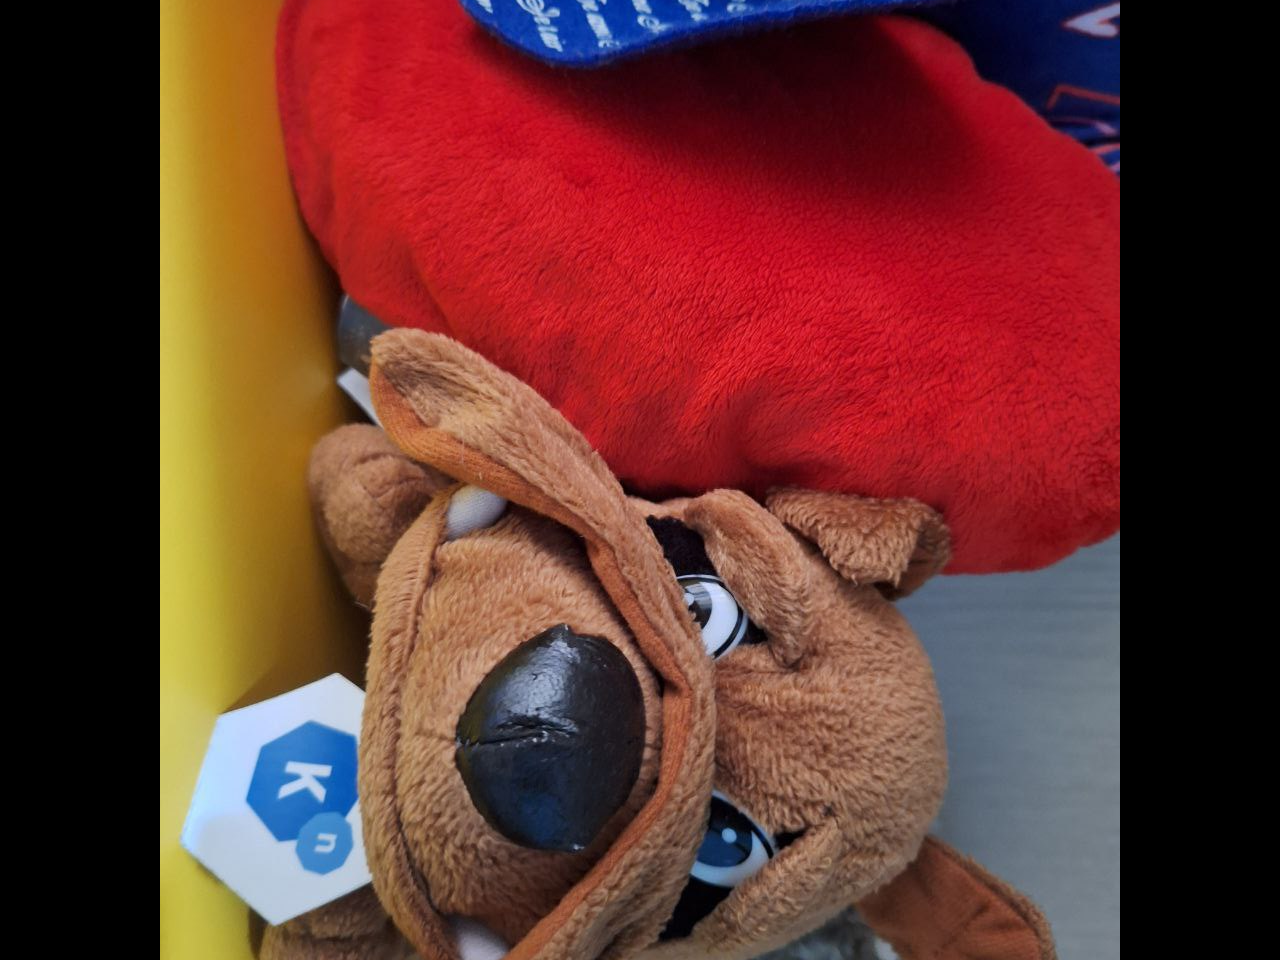knative: (242, 721, 361, 881)
